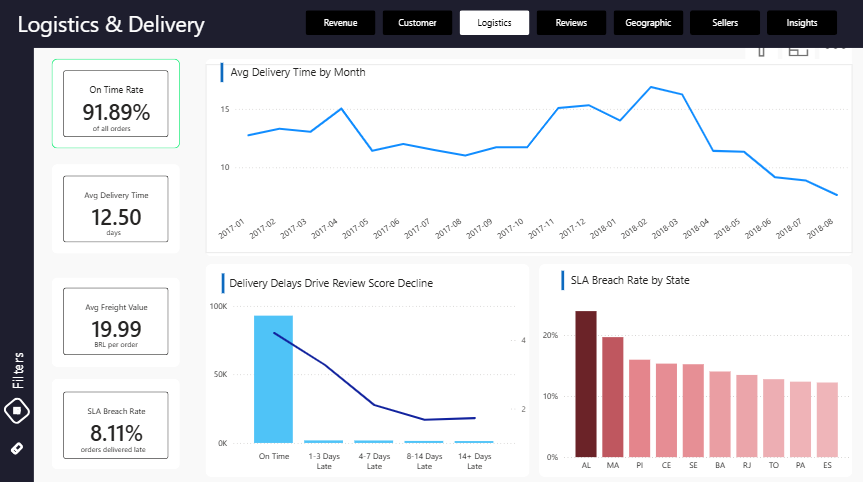

Layout of this report page (visuals, bound fields, positions):
{"tool":"powerbi","page":{"name":"Logistics","canvas":[1280,720],"ordinal":2},"visuals":[{"type":"shape","box":[0,0,51.7,720],"z":0,"group":"g1"},{"type":"shape","box":[800,394.3,464.3,315.7],"z":0},{"type":"shape","box":[0,0,1280,74],"z":1000,"group":"g1"},{"type":"shape","box":[305.7,394.3,480,315.7],"z":1000},{"type":"textbox","box":[22,10,322,54],"z":2000,"group":"g1"},{"type":"shape","box":[305.7,90,958.6,292.9],"z":2000},{"type":"shape","box":[78.6,414.3,190,132.9],"z":3000},{"type":"actionButton","box":[7.1,647.1,37.1,38.6],"z":3000,"group":"g1"},{"type":"shape","box":[78.6,245.7,190,132.9],"z":4000},{"type":"actionButton","box":[4.1,576.2,45,70.8],"z":4000,"group":"g1"},{"type":"pageNavigator","box":[454.3,18.6,791.4,37.1],"z":5000,"group":"g1"},{"type":"cardVisual","fields":{"Data":["olist_orders_dataset.Avg Delivery Time (Days)"]},"box":[78.6,245.7,190,133],"z":5000,"group":"g3"},{"type":"shape","box":[78.6,564.3,190,134.3],"z":5000},{"type":"shape","box":[78.6,90,190,132.9],"z":6000},{"type":"cardVisual","fields":{"Data":["order_items_dataset.Avg Freight Value"]},"box":[78.6,412.9,190,134],"z":6000,"group":"g5"},{"type":"actionButton","box":[5.4,508.1,42.2,88.5],"z":6000,"group":"g1"},{"type":"clusteredColumnChart","fields":{"Y":["olist_orders_dataset.SLA Breach Rate %"],"Category":["customers_dataset.customer_state"]},"box":[800,440,464,270],"z":7000},{"type":"lineChart","fields":{"Category":["Dim_Date.Year Month"],"Y":["olist_orders_dataset.Avg Delivery Time (Days)"]},"box":[305.7,97.1,958.6,281.4],"z":8000},{"type":"lineClusteredColumnComboChart","fields":{"Y2":["Avg(olist_order_reviews_dataset.review_score)"],"Category":["Fact_Orders.Delay Bucket"],"Y":["CountNonNull(Fact_Orders.order_id)"]},"box":[306,442,480,268],"z":9000},{"type":"group","id":"g1","title":"Group 2","box":[0,0,1280,720],"z":10000},{"type":"textbox","box":[338.3,94.3,280.3,38.6],"z":10000,"group":"g6"},{"type":"textbox","box":[842.8,402,271.2,38.7],"z":10000,"group":"g8"},{"type":"textbox","box":[336,406,320,38],"z":10000,"group":"g7"},{"type":"cardVisual","fields":{"Data":["v_delivery_performance.On Time Rate %"]},"box":[78.6,90,190,133],"z":11000,"group":"g2"},{"type":"group","id":"g2","title":"Group 3","box":[78.6,90,208.6,132.9],"z":12000},{"type":"shape","box":[174.3,96.8,312.6,28.6],"z":12000,"group":"g6"},{"type":"shape","box":[684,404.5,302.5,28.8],"z":12000,"group":"g8"},{"type":"shape","box":[298,408,67.9,29.4],"z":12000,"group":"g7"},{"type":"cardVisual","fields":{"Data":["olist_orders_dataset.SLA Breach Rate %"]},"box":[78.6,565.7,190,134],"z":12000,"group":"g4"},{"type":"group","id":"g3","title":"Group 5","box":[78.6,245.7,228.6,132.9],"z":13000},{"type":"textbox","box":[136.7,498.8,94.3,30],"z":13000,"group":"g5"},{"type":"group","id":"g4","title":"Group 6","box":[78.6,565.7,190,132.9],"z":14000},{"type":"textbox","box":[155.3,331,151.4,30],"z":15000,"group":"g3"},{"type":"group","id":"g5","title":"Group 7","box":[78.6,412.9,190,134.3],"z":15000},{"type":"group","id":"g6","title":"Group 3","box":[174.3,94.3,444.3,38.6],"z":16000},{"type":"textbox","box":[135.3,177.3,151.4,30],"z":16000,"group":"g2"},{"type":"group","id":"g7","title":"Group 3","box":[298,406,358,38],"z":17000},{"type":"textbox","box":[116.7,653.6,141.4,30],"z":17000,"group":"g4"},{"type":"group","id":"g8","title":"Group 3","box":[684,402,430,40],"z":18000}]}

Visuals, with their boxes in screenshot pixels (x1, y1, x2, y2), scaled from the page's 1280x720 canvas onto the 863x482 screenshot:
shape: detection(0, 0, 35, 481)
shape: detection(539, 264, 852, 475)
shape: detection(0, 0, 862, 50)
shape: detection(206, 264, 530, 475)
textbox: detection(15, 7, 232, 43)
shape: detection(206, 60, 852, 256)
shape: detection(53, 277, 181, 366)
actionButton: detection(5, 433, 30, 459)
shape: detection(53, 164, 181, 253)
actionButton: detection(3, 386, 33, 433)
pageNavigator: detection(306, 12, 840, 37)
cardVisual - olist_orders_dataset.Avg Delivery Time (Days): detection(53, 164, 181, 254)
shape: detection(53, 378, 181, 468)
shape: detection(53, 60, 181, 149)
cardVisual - order_items_dataset.Avg Freight Value: detection(53, 276, 181, 366)
actionButton: detection(4, 340, 32, 399)
clusteredColumnChart - olist_orders_dataset.SLA Breach Rate % x customers_dataset.customer_state: detection(539, 295, 852, 475)
lineChart - Dim_Date.Year Month x olist_orders_dataset.Avg Delivery Time (Days): detection(206, 65, 852, 253)
lineClusteredColumnComboChart - Avg(olist_order_reviews_dataset.review_score) x Fact_Orders.Delay Bucket: detection(206, 296, 530, 475)
"Group 2" group: detection(0, 0, 862, 481)
textbox: detection(228, 63, 417, 89)
textbox: detection(568, 269, 751, 295)
textbox: detection(227, 272, 442, 297)
cardVisual - v_delivery_performance.On Time Rate %: detection(53, 60, 181, 149)
"Group 3" group: detection(53, 60, 194, 149)
shape: detection(118, 65, 328, 84)
shape: detection(461, 271, 665, 290)
shape: detection(201, 273, 247, 293)
cardVisual - olist_orders_dataset.SLA Breach Rate %: detection(53, 379, 181, 468)
"Group 5" group: detection(53, 164, 207, 253)
textbox: detection(92, 334, 156, 354)
"Group 6" group: detection(53, 379, 181, 468)
textbox: detection(105, 222, 207, 242)
"Group 7" group: detection(53, 276, 181, 366)
"Group 3" group: detection(118, 63, 417, 89)
textbox: detection(91, 119, 193, 139)
"Group 3" group: detection(201, 272, 442, 297)
textbox: detection(79, 438, 174, 458)
"Group 3" group: detection(461, 269, 751, 296)
